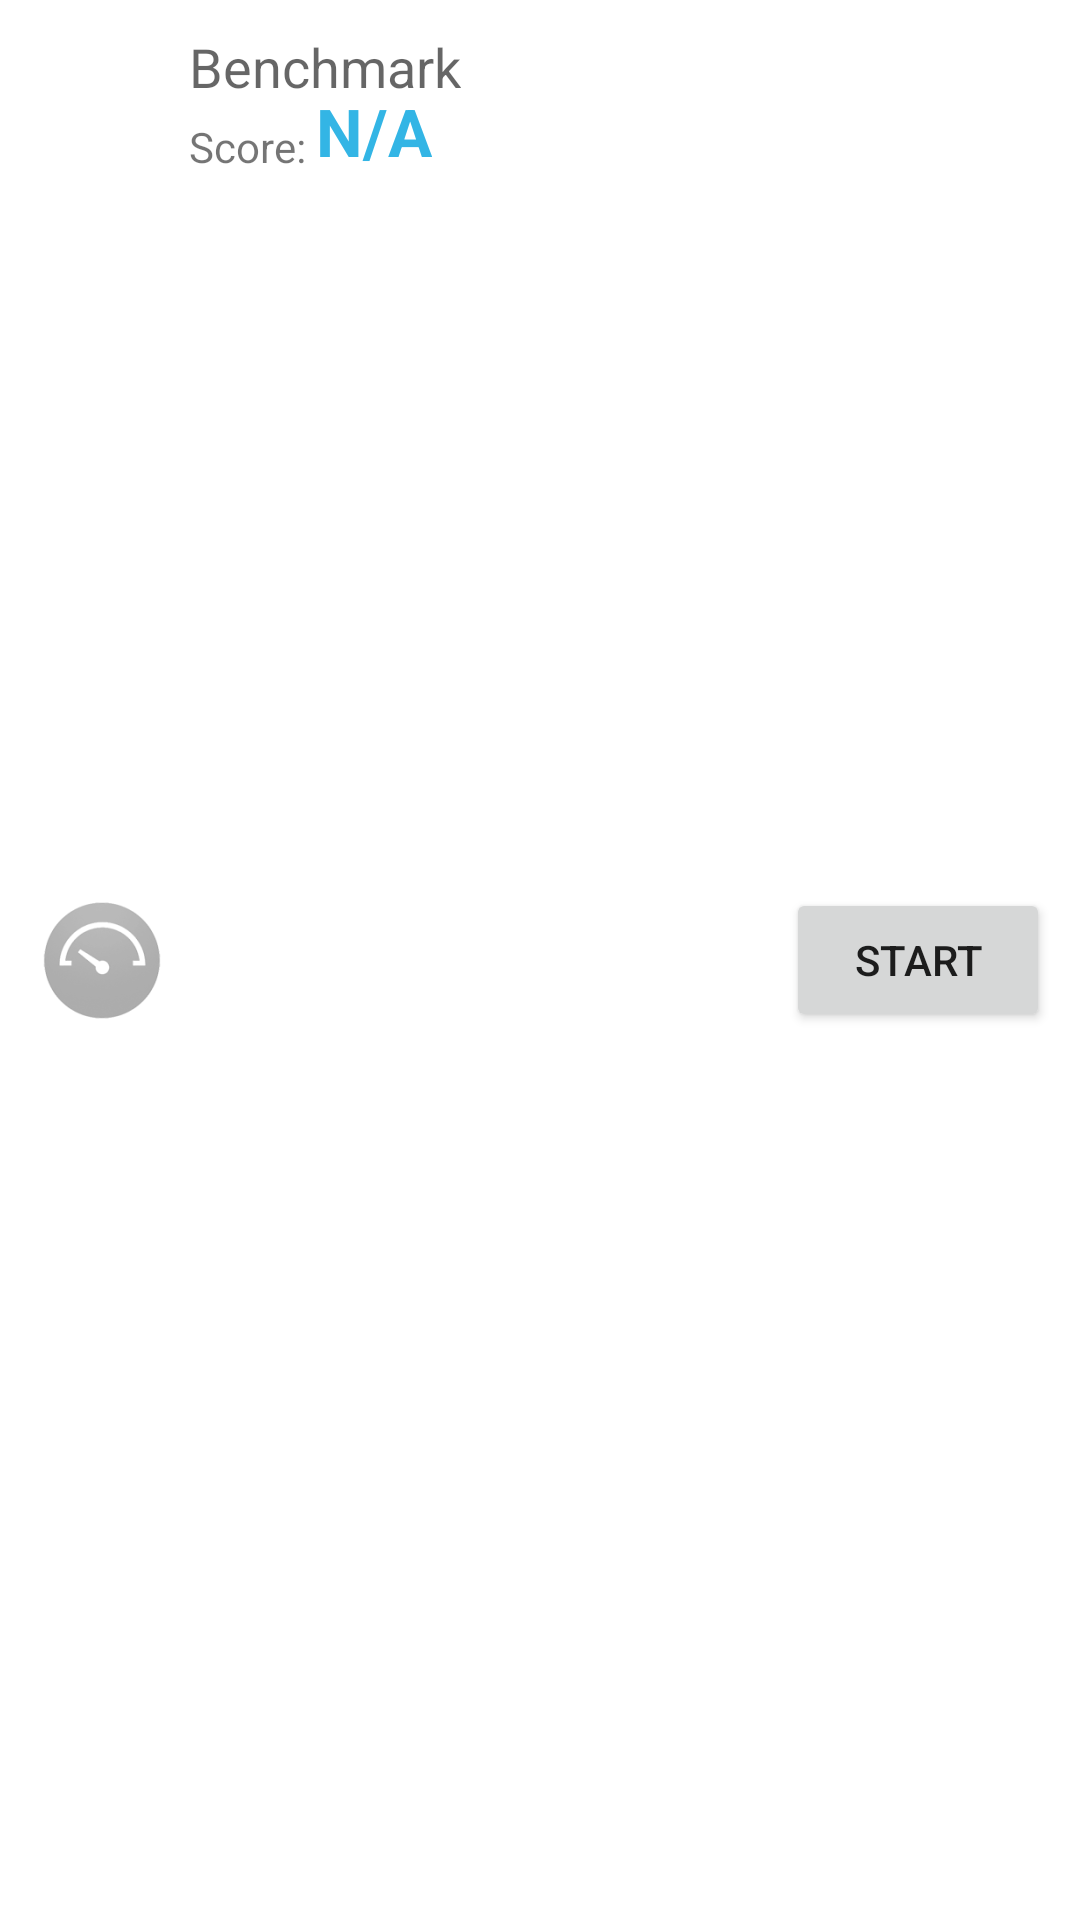

Where icons sit on this 1080w x 1920h app screen, as bbox=[x1, y1, x2, y2]:
benchmark: bbox=[44, 903, 160, 1018]
